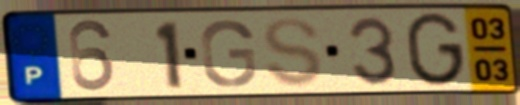1: (152, 18, 185, 91)
3: (345, 14, 401, 87)
6: (66, 17, 118, 95)
G: (404, 10, 467, 90), (197, 18, 259, 90)
S: (261, 15, 326, 90)
